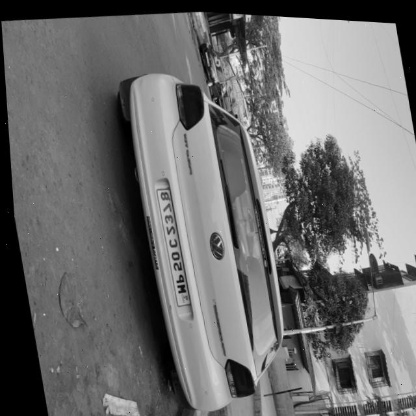car: (268, 301, 416, 416)
